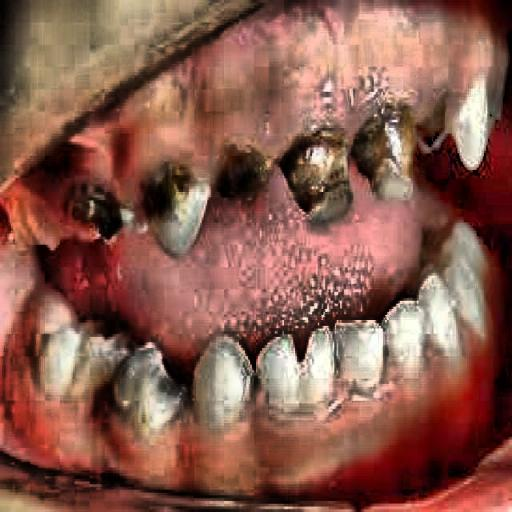Caries: (267, 94, 439, 222), (50, 154, 226, 258)
